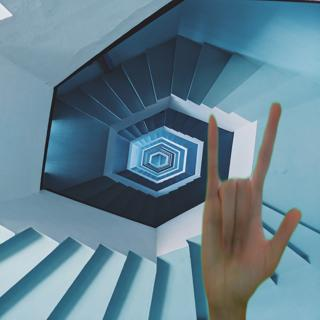ILY: (195, 99, 305, 310)
